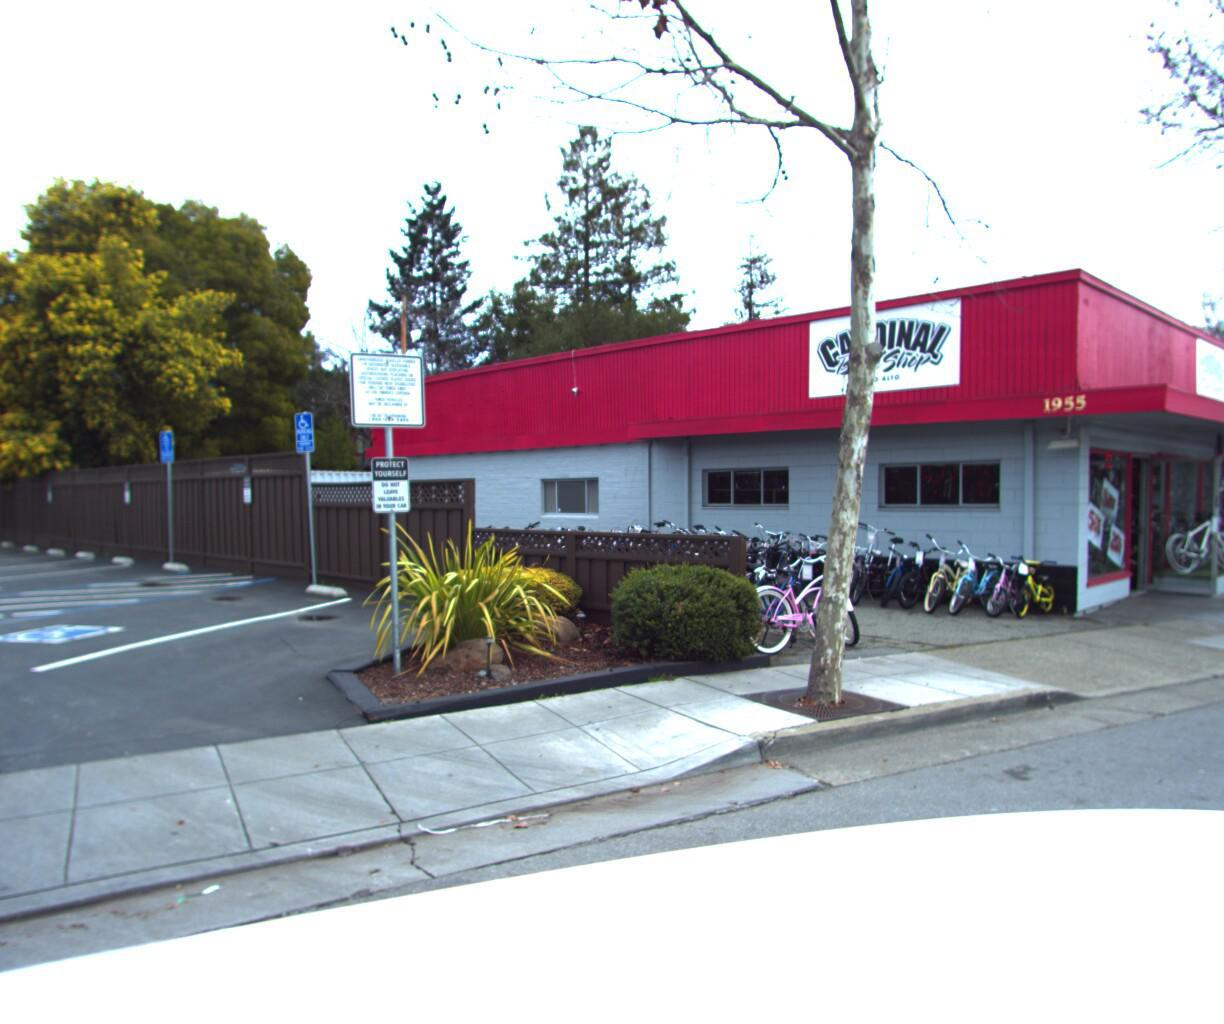bicycle: (706, 525, 829, 656), (680, 522, 802, 648), (846, 515, 920, 604), (918, 524, 988, 611), (823, 521, 898, 602), (871, 524, 941, 606), (940, 534, 1011, 614), (778, 523, 853, 597), (965, 541, 1036, 618), (893, 531, 963, 609), (523, 513, 602, 581), (761, 522, 835, 595), (743, 521, 817, 592), (724, 520, 798, 590), (642, 510, 714, 583), (707, 519, 780, 588), (613, 511, 685, 580), (689, 519, 762, 586), (1154, 500, 1224, 569), (998, 549, 1066, 620), (656, 519, 728, 585), (1170, 499, 1224, 567), (1174, 499, 1224, 564), (1182, 499, 1224, 562)
